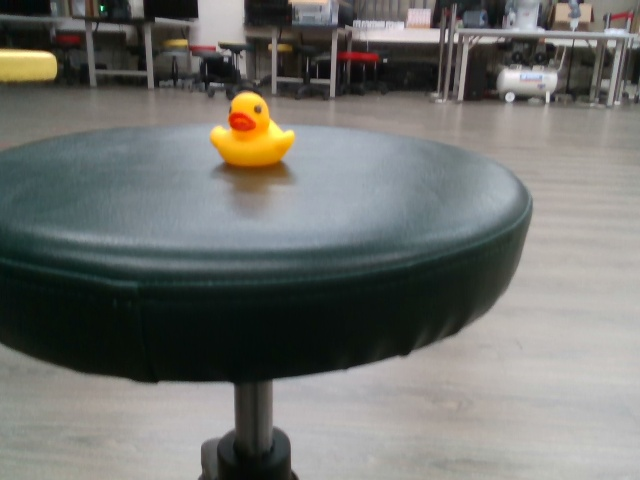duck: (206, 86, 299, 171)
